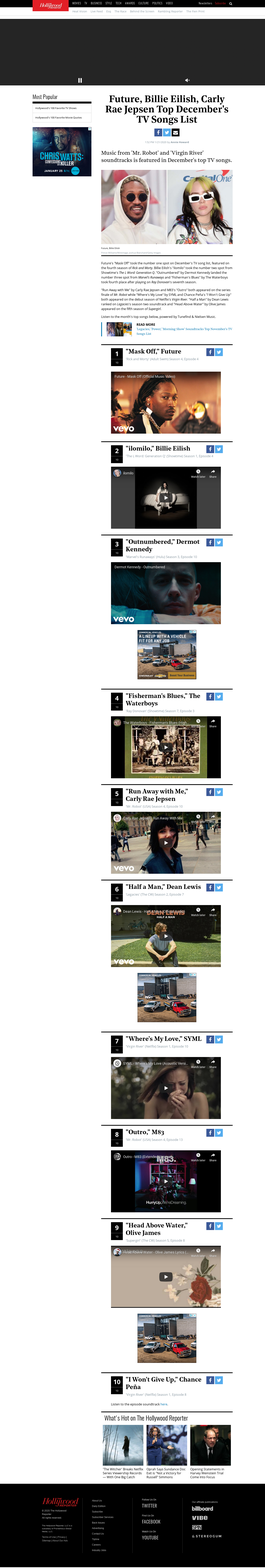fake_button: (155, 927, 181, 948), (155, 1268, 177, 1284), (158, 835, 177, 852), (159, 1083, 180, 1097), (159, 738, 175, 754)
